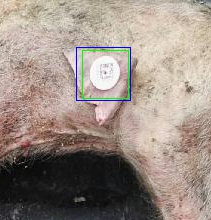text: (82, 50, 128, 98)
